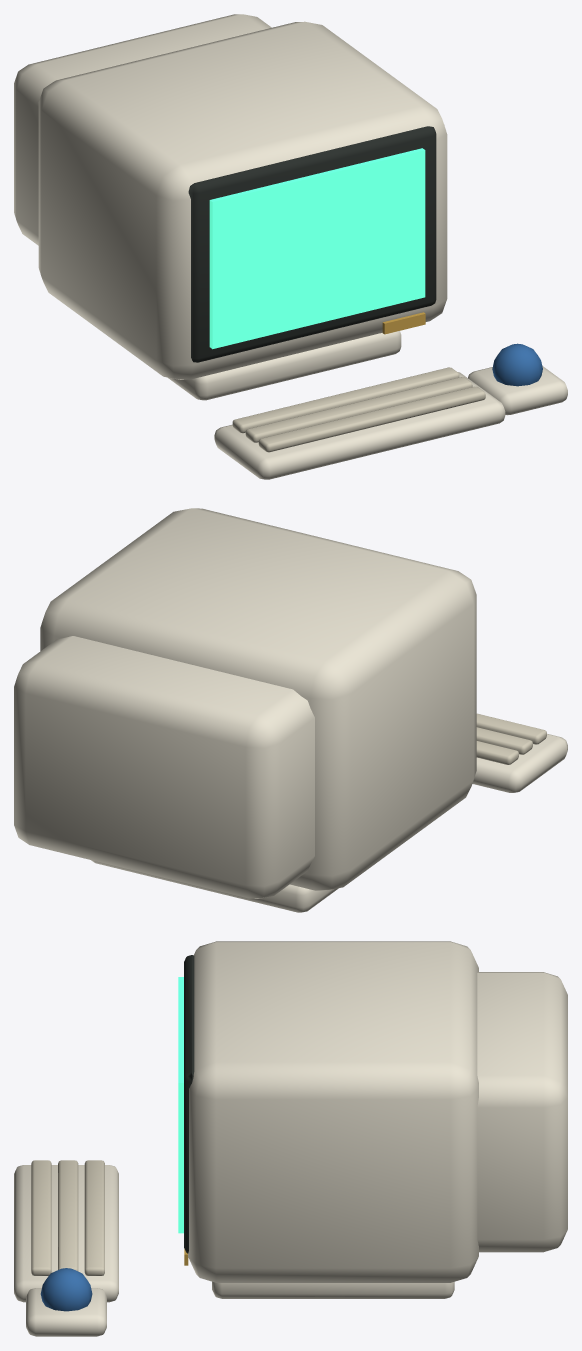
Rendered from terminal.gltf.
3 views of the same model, one above another, from view 1: azimuth 30°, elevation 25°; view 2: azimuth 150°, elevation 25°; view 3: azimuth 270°, elevation 25° (orthographic). The views are drawn at different scales.
Parts seen in each view (by area): view 1: terminal_mesh, EMIT_screen; view 2: terminal_mesh; view 3: terminal_mesh, EMIT_screen.
Boxes of the visible parts, x1,y1,x2,y2 form: terminal_mesh: [14, 14, 567, 479]; EMIT_screen: [209, 148, 425, 349]; terminal_mesh: [14, 508, 567, 912]; terminal_mesh: [14, 941, 567, 1336]; EMIT_screen: [178, 977, 183, 1233].
Size of the model in its own units: 0.47 by 0.34 by 0.685.
